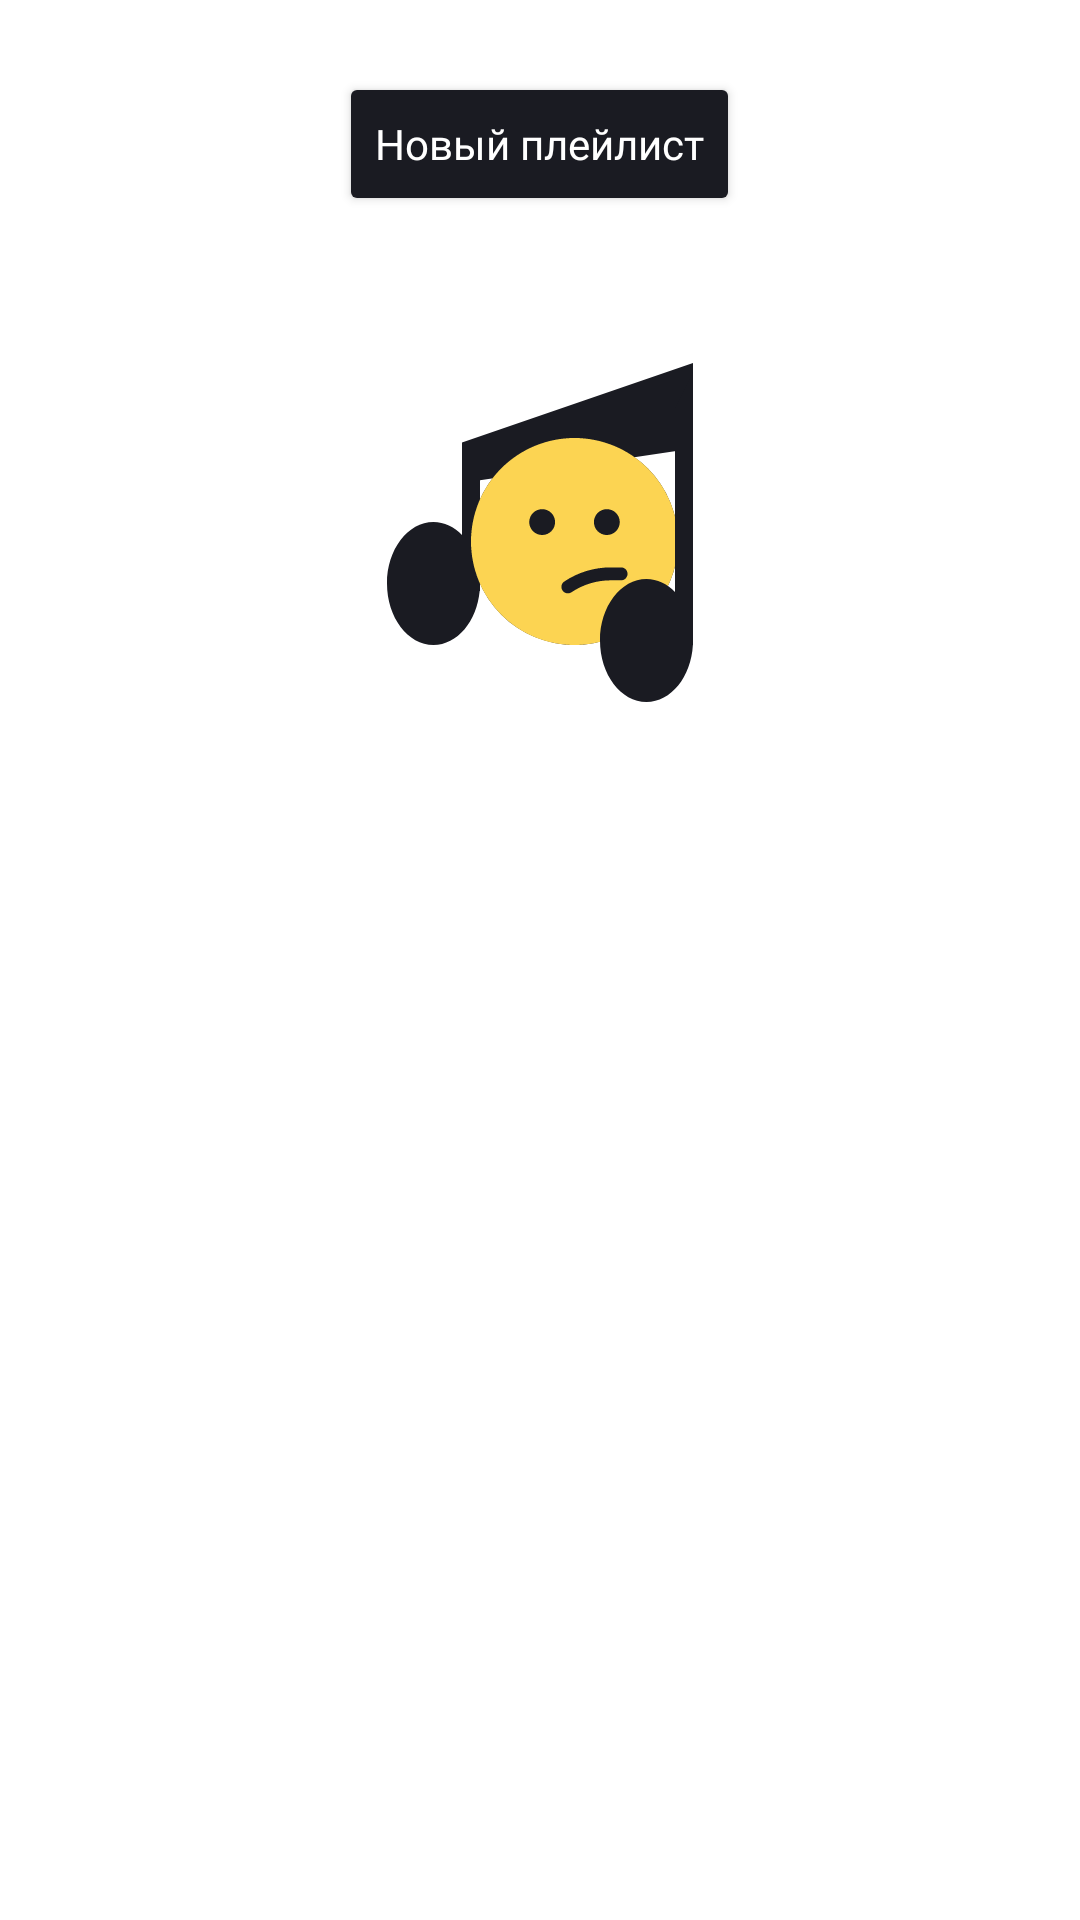

Where to tap for icons on this 1080w x 1920h app screen, as [x,y]:
not found error: [540,532]
